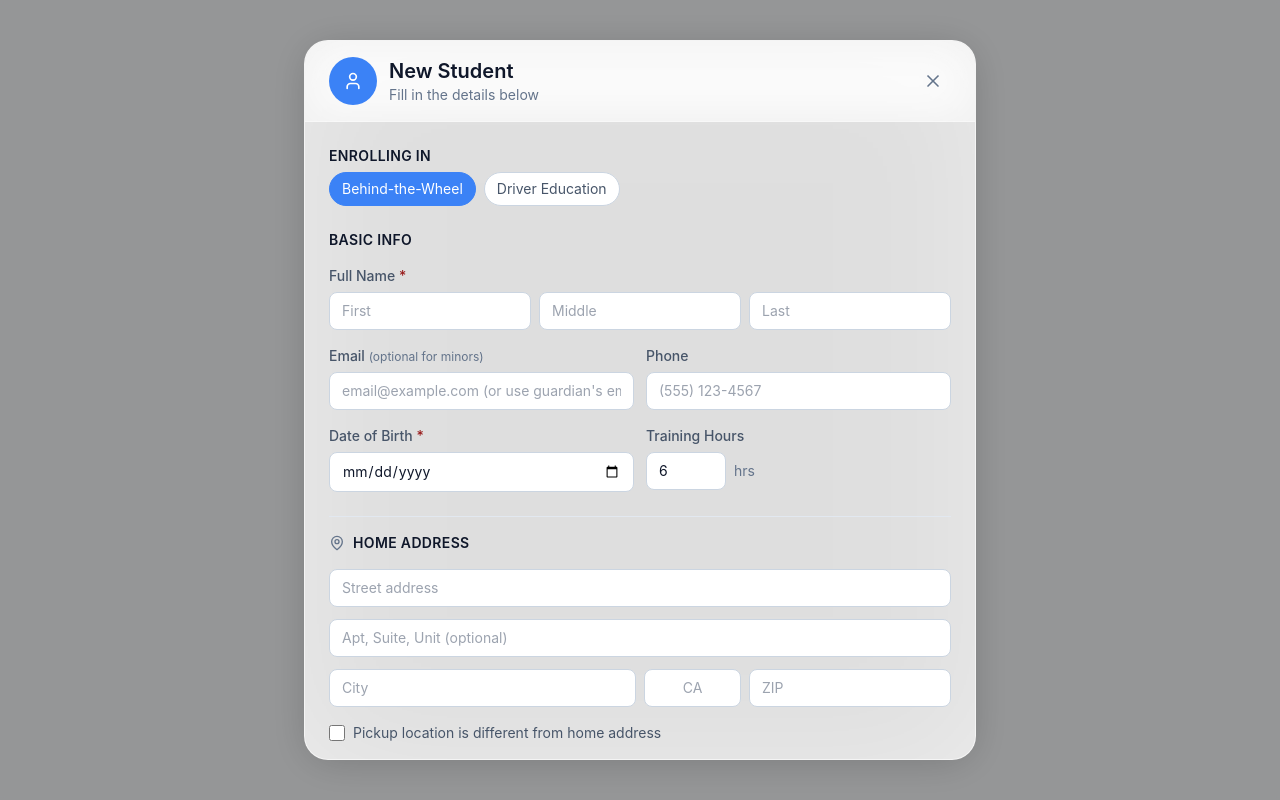
Test: StudentModal create form - date of birth required › blocks submission and shows a validation message when date of birth is missing
In the field with placeholder "First": (430, 311) [329,292,531,330], type "Jane"
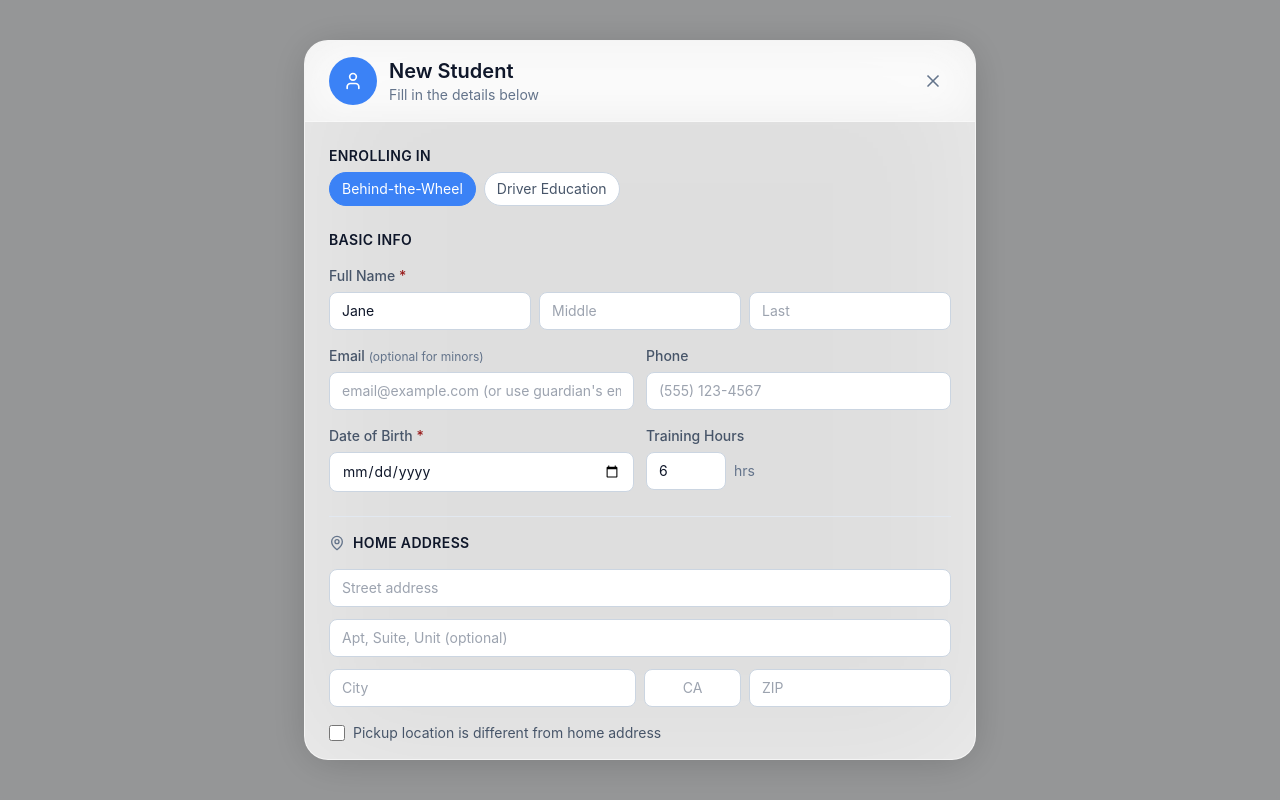
In the field with placeholder "Last": (850, 311) [749,292,951,330], type "Doe"
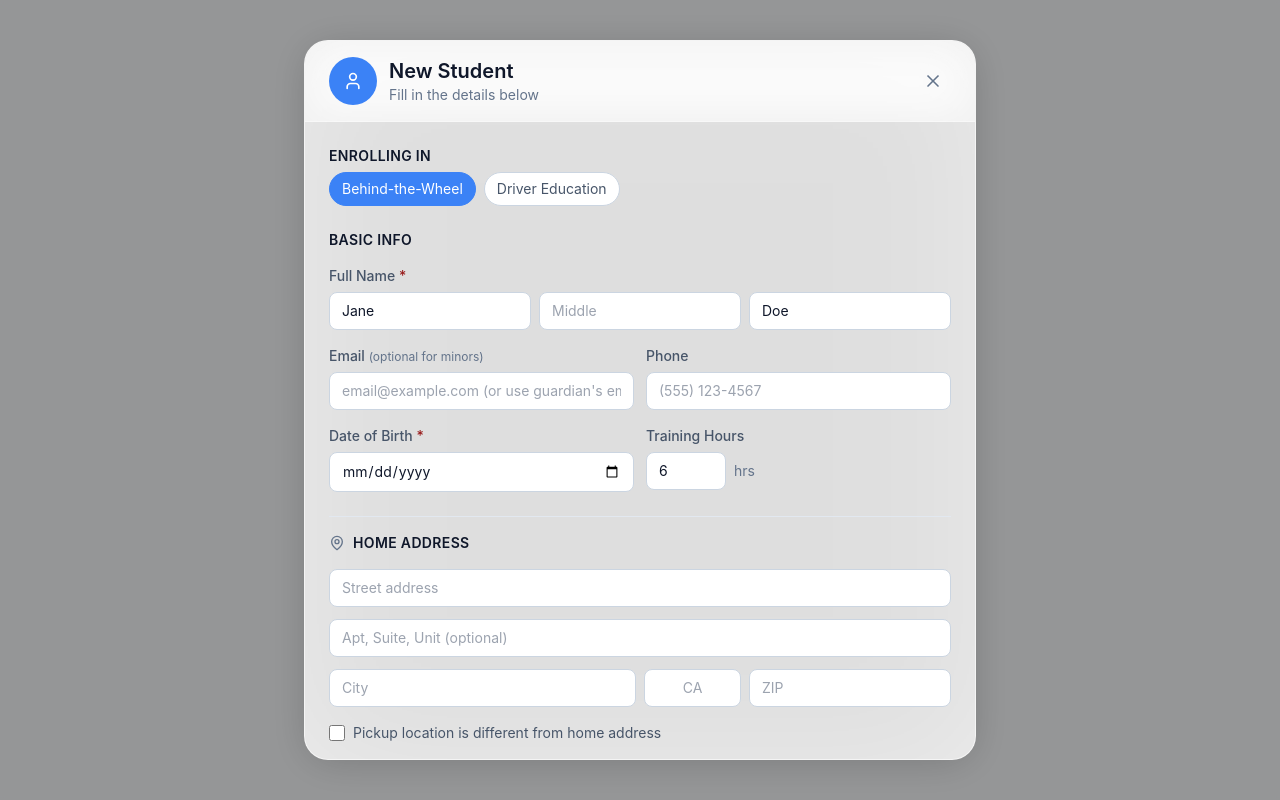
In the field with placeholder "email@example.com (or use guardian's email below)": (482, 391) [329,372,634,410], type "jane.doe@example.com"
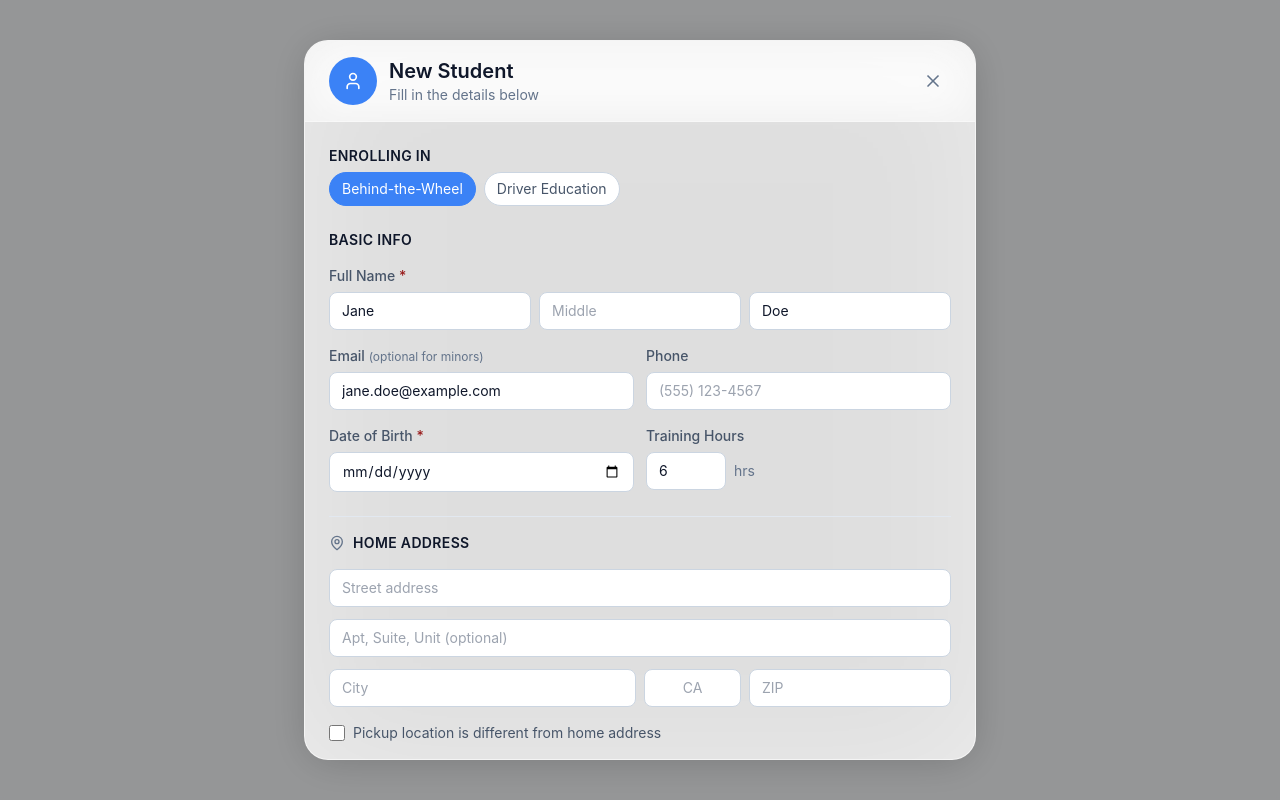
In the field with placeholder "(555) 123-4567": (798, 391) [646,372,951,410], type "5550100"
(page scrolled)
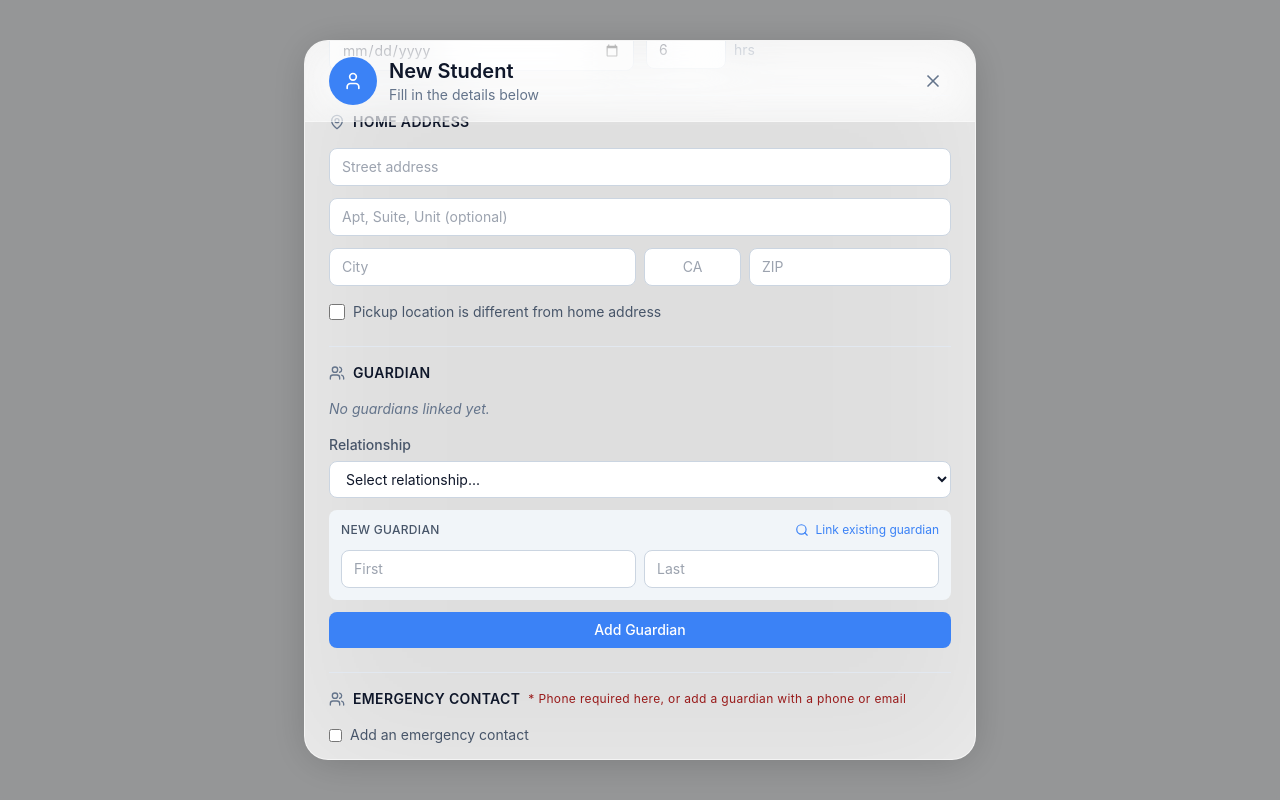
Submit the form titled "Date of Birth"
(page scrolled)
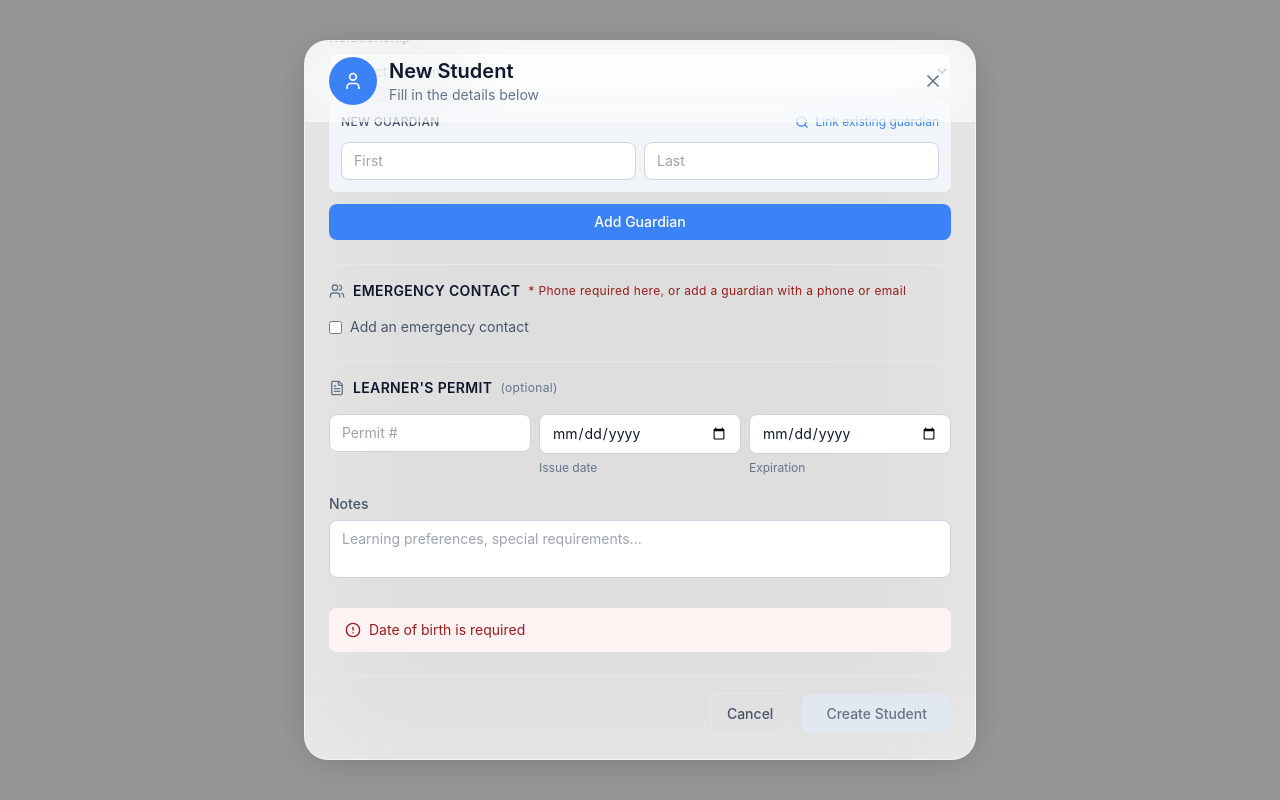
Result: the text "Date of birth is required" is shown at [369,620,525,640]
